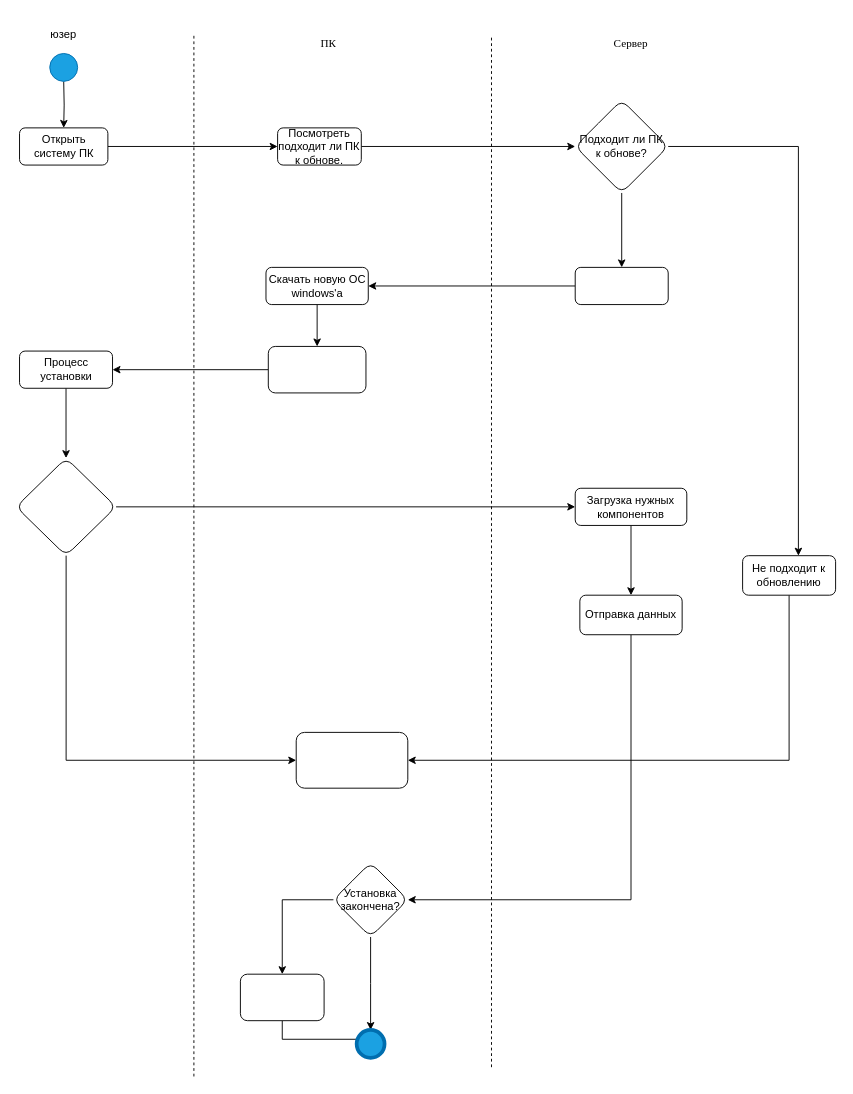
Some shapes in this 853 by 1094 pixel diagram are drawn without their labels. The shapes that lost their labels are listed below. From the top down, each one's box as (x1, y1, x2, y2) in pixels, then its label:
(574, 266, 668, 305): Да, доступно обновление
(267, 345, 366, 393): Начать установку
(15, 457, 116, 556): Установка успешна?
(295, 731, 408, 788): Отмена установки
(239, 973, 324, 1021): Конец установки.
